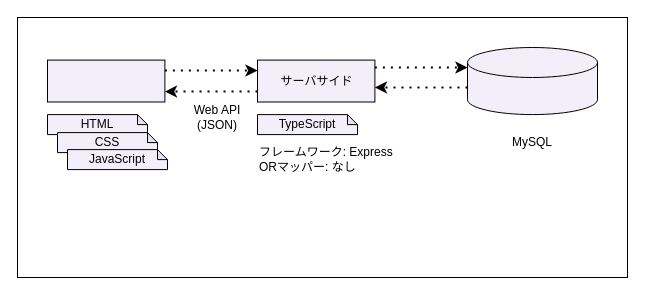
The diagram is 645 pixels wide and 295 high, and some of its shapes have lost their labels. The centre of each missing label's shape, as x and y in pixels:
データベース: the point at 532,80
フロントエンド: the point at 105,80
